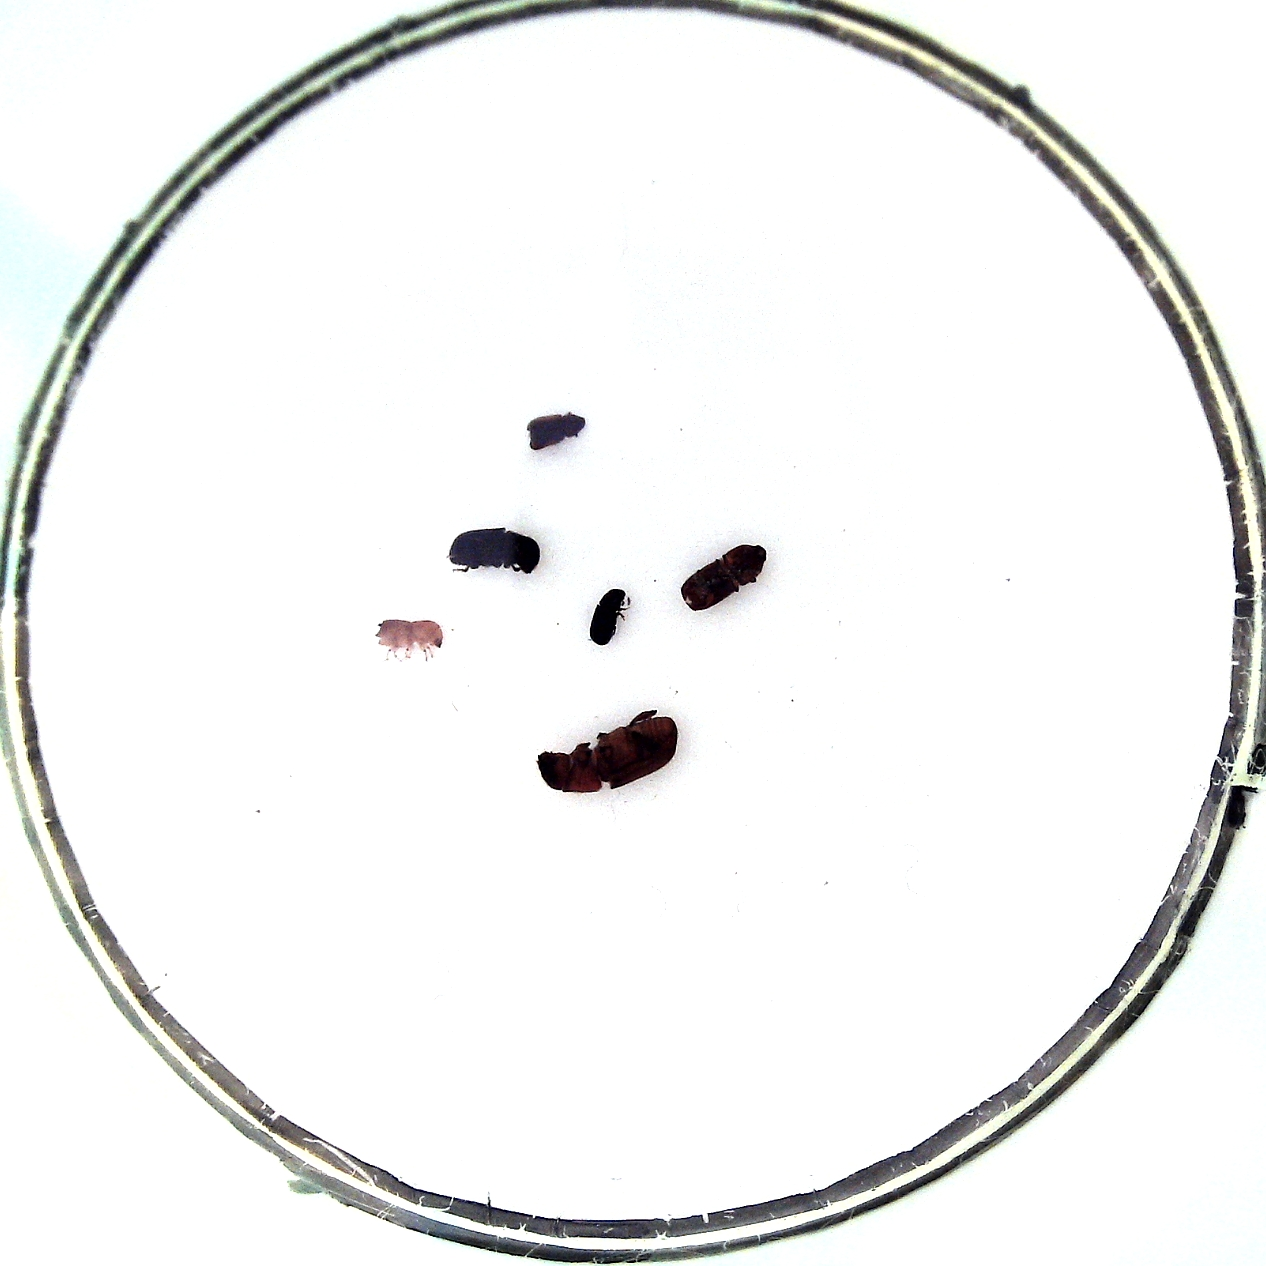Leconte: (536, 715, 678, 792)
acuminatus: (589, 588, 625, 645)
armandi: (449, 527, 540, 574)
coleoptera: (527, 413, 585, 450), (374, 619, 442, 650)
linnaeus: (681, 543, 766, 611)
